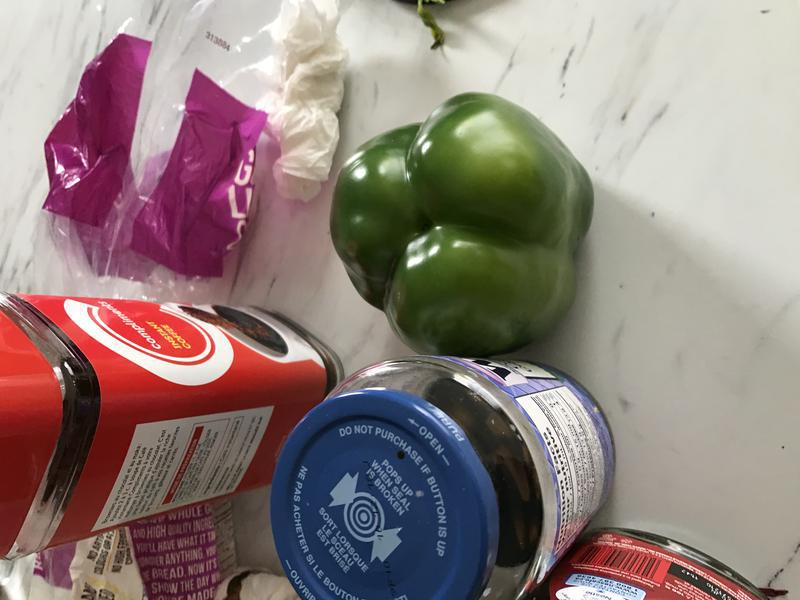green_pepper: (317, 83, 601, 366)
